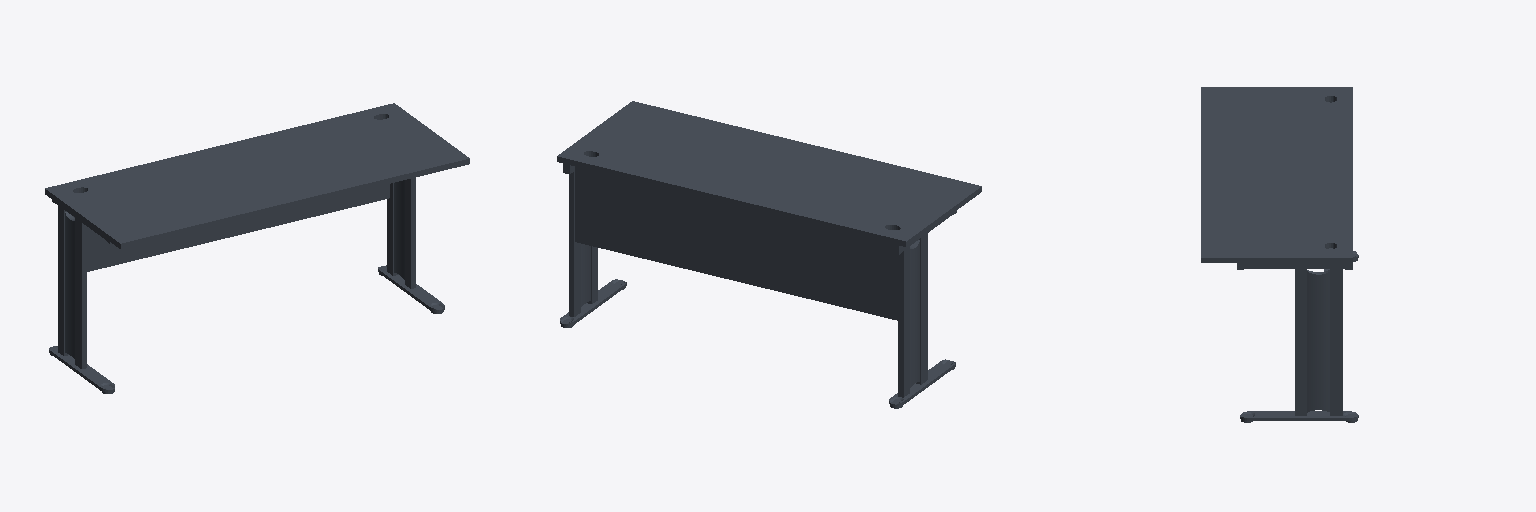
3 views of the same model, side by side, from view 1: azimuth 30°, elevation 25°; view 2: azimuth 150°, elevation 25°; view 3: azimuth 270°, elevation 25° (orthographic).
Parts seen in each view (by area): view 1: 3d_model001; view 2: 3d_model001; view 3: 3d_model001.
Boxes of the visible parts, x1=… form: 3d_model001: x1=45, y1=103, x2=469, y2=393; 3d_model001: x1=557, y1=101, x2=981, y2=408; 3d_model001: x1=1201, y1=87, x2=1358, y2=422.
Bounding box in the file's own units: 32 × 14.64 × 12.47.
Materials: 1 (1 with a texture image).